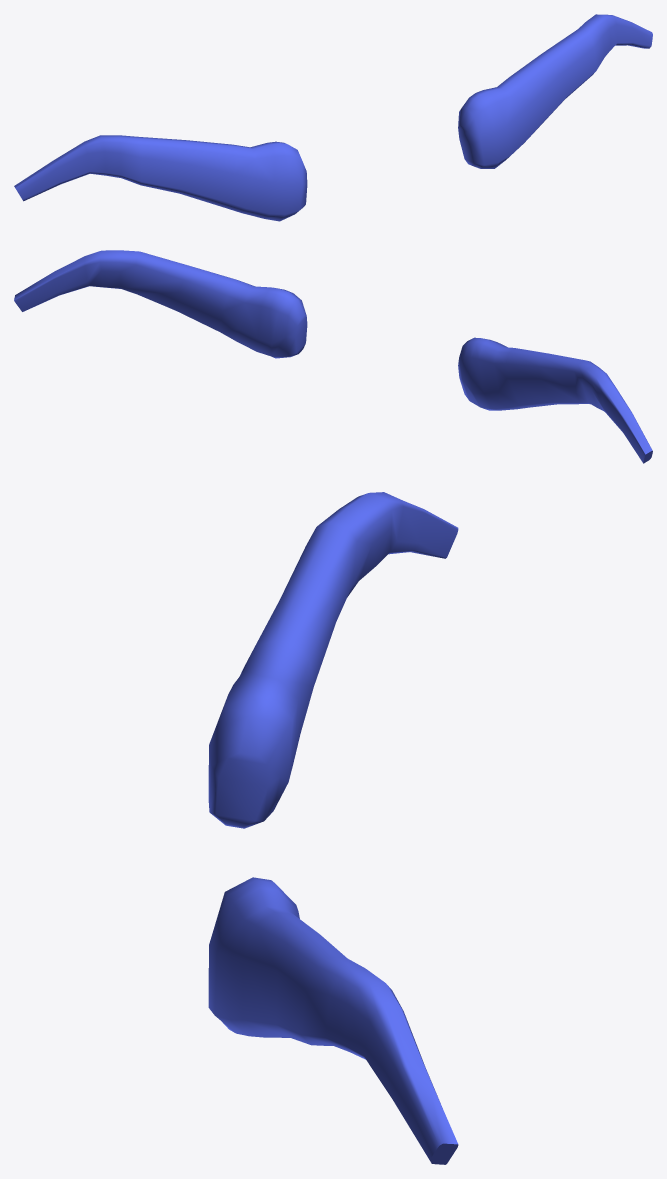
Rendered from Eyebrows_13_03.fbx.
3 views of the same model, one above another, from view 1: azimuth 30°, elevation 25°; view 2: azimuth 150°, elevation 25°; view 3: azimuth 270°, elevation 25° (orthographic). The views are drawn at different scales.
Parts seen in each view (by area): view 1: Eyebrows_13_03; view 2: Eyebrows_13_03; view 3: Eyebrows_13_03.
Boxes of the visible parts, <box> form: Eyebrows_13_03: <box>14,14,652,221</box>; Eyebrows_13_03: <box>14,250,652,463</box>; Eyebrows_13_03: <box>208,492,458,1164</box>.
Bounding box in the file's own units: 19.7 × 2.81 × 3.35.
